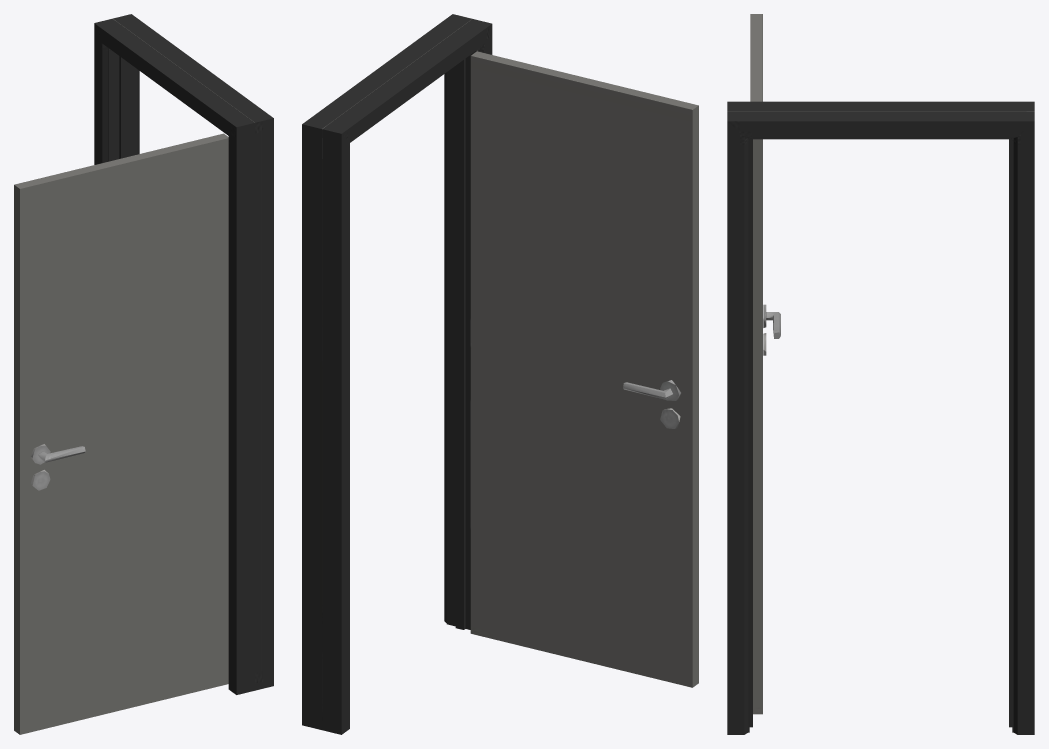
File: Door0012open.obj
3 renders of one model, left to right at view 1: azimuth 30°, elevation 25°; view 2: azimuth 150°, elevation 25°; view 3: azimuth 270°, elevation 25°, orthographic. The views are drawn at different scales.
Bounding box in the file's own units: 0.951 × 2.12 × 0.964.
Materials: 1 (1 with a texture image).
